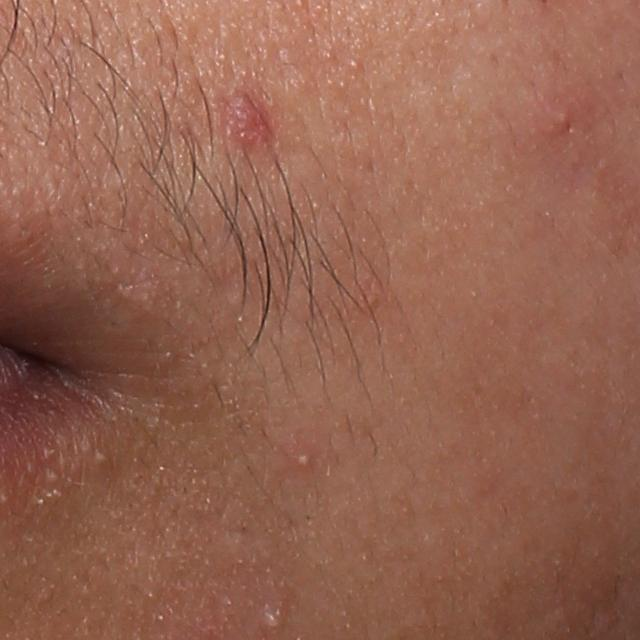comedo: (262, 606, 282, 631)
papule: (544, 102, 585, 135)
pustule: (294, 447, 316, 470)
